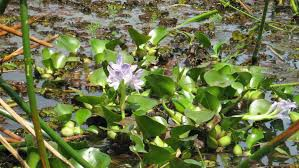water_hyacinth: (41, 30, 299, 168)
